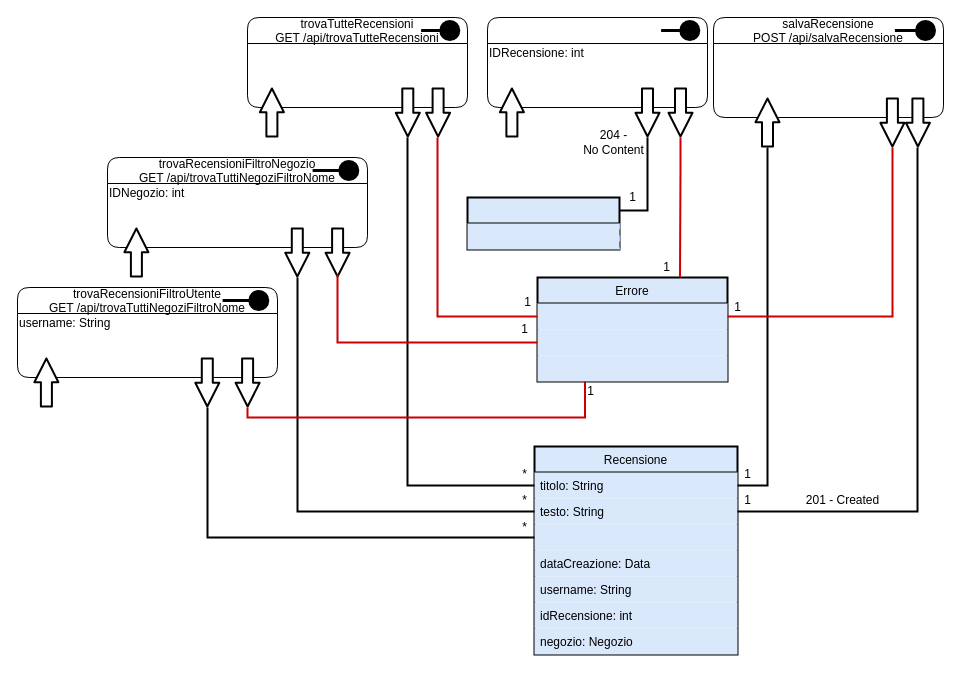
Image size: 964x675. Some labels were removed from this diagram. The box of each missing label's shape, as (x1, y1, x2, y2) in pixels:
Conferma: (466, 196, 620, 250)
eliminaRecensione DELETE /api/eliminaRecensione: (486, 16, 708, 108)
messaggio: String: (537, 355, 727, 381)
nStelle: int: (534, 524, 737, 550)
statusCode: int: (537, 329, 727, 355)
success: bool: (537, 303, 727, 329)
